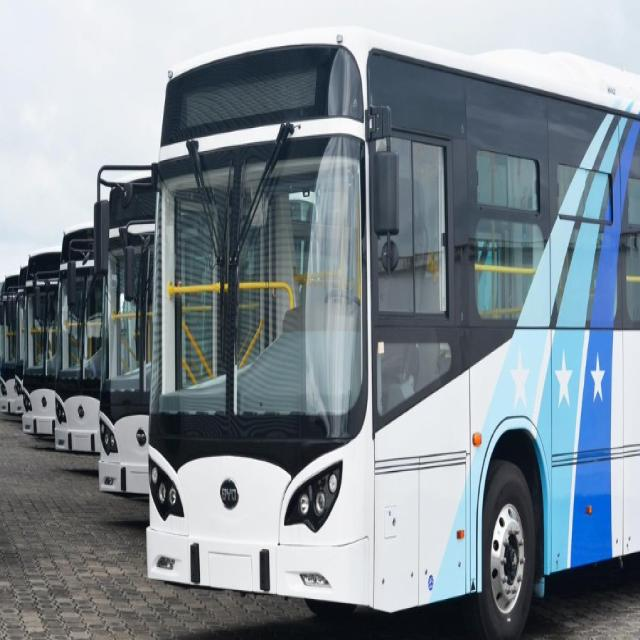BUS: (140, 31, 640, 628), (97, 163, 163, 451), (55, 228, 107, 449), (18, 267, 58, 433)
